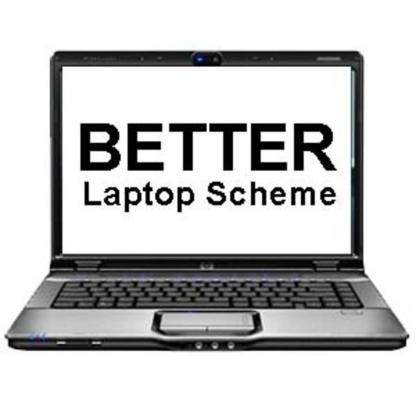board: (3, 47, 406, 355)
